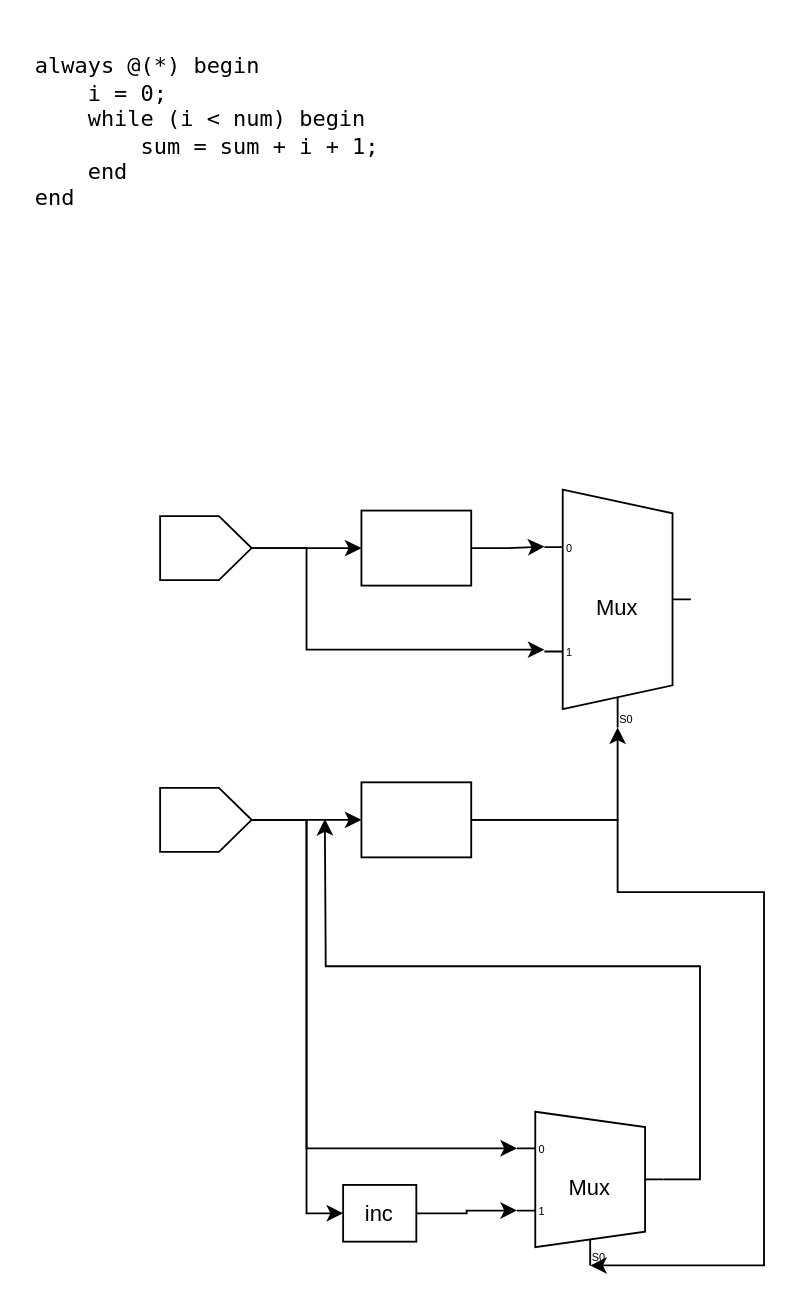
Image size: 811x1312. Some labels were removed from this diagram. Each missing label, with the box of its shape:
body: (360, 509, 471, 586)
cond: (360, 780, 471, 857)
